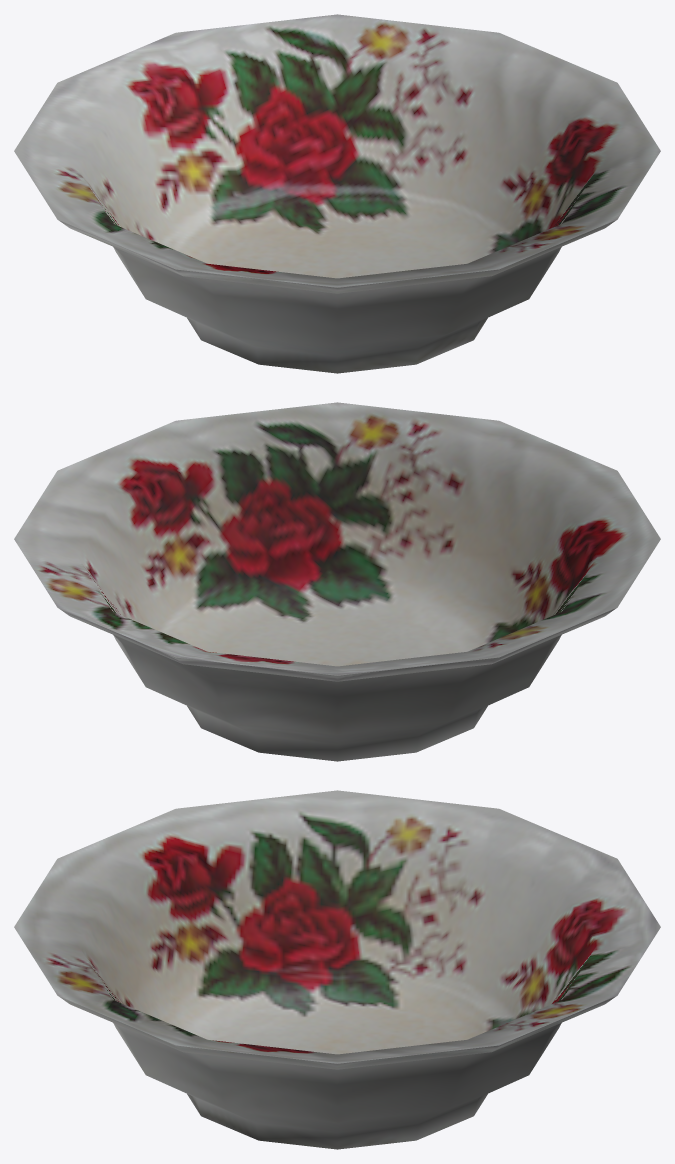
The model's file is bowl-1.FBX.
3 views of the same model, one above another, from view 1: azimuth 30°, elevation 25°; view 2: azimuth 150°, elevation 25°; view 3: azimuth 270°, elevation 25° (orthographic).
Parts seen in each view (by area): view 1: bowl-1_LOD0; view 2: bowl-1_LOD0; view 3: bowl-1_LOD0.
Boxes of the visible parts, box(x1,y1,x2,y2) form: bowl-1_LOD0: box(14, 14, 660, 373); bowl-1_LOD0: box(14, 402, 660, 761); bowl-1_LOD0: box(14, 790, 660, 1149).
Size of what is drawn, in the model's own units: 13.82 by 3.67 by 13.82.
